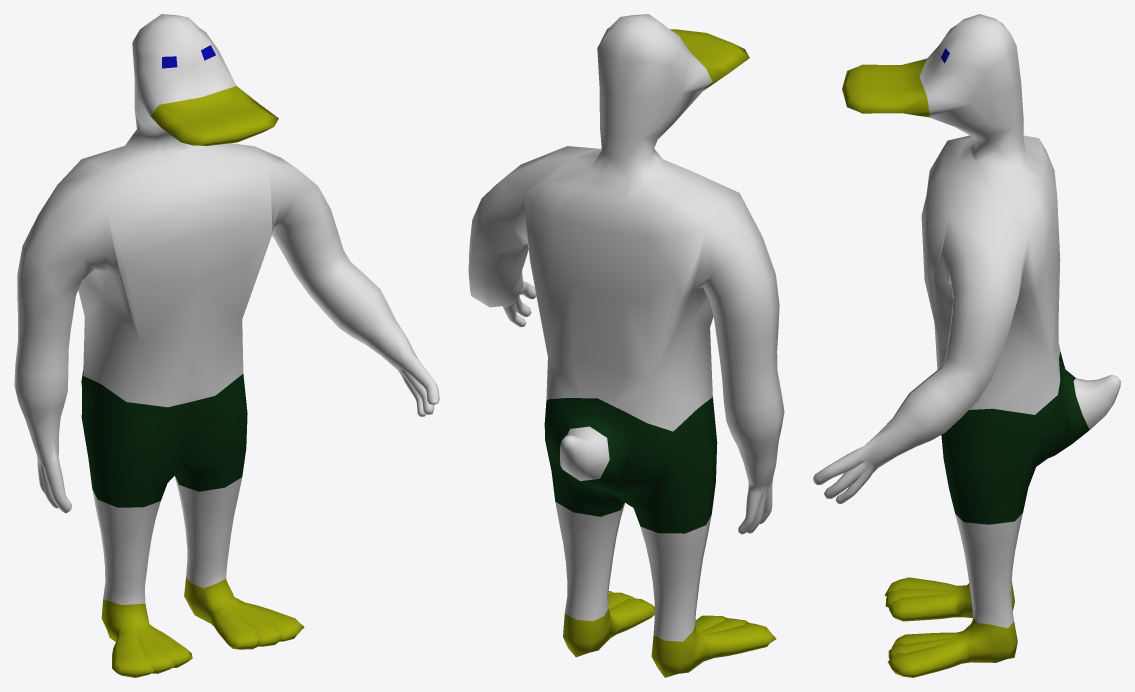
File: canard_qui_salue_000003.obj
3 views of the same model, side by side, from view 1: azimuth 30°, elevation 25°; view 2: azimuth 150°, elevation 25°; view 3: azimuth 270°, elevation 25° (orthographic). The views are drawn at different scales.
Visible parts, largest first — view 1: Cube; view 2: Cube; view 3: Cube.
Boxes of the visible parts, left/top/right/bottom form: Cube: left=14, top=14, right=439, bottom=677; Cube: left=468, top=14, right=784, bottom=677; Cube: left=813, top=14, right=1120, bottom=677.
Bounding box in the file's own units: 1.59 × 2.8 × 1.26.
